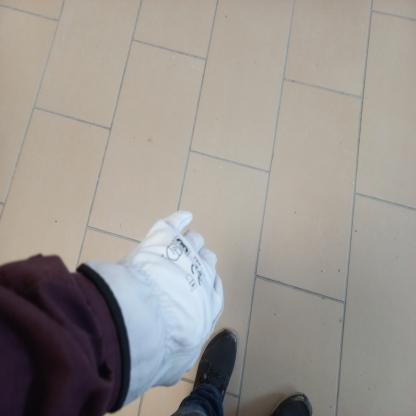gloves: (124, 181, 220, 376)
